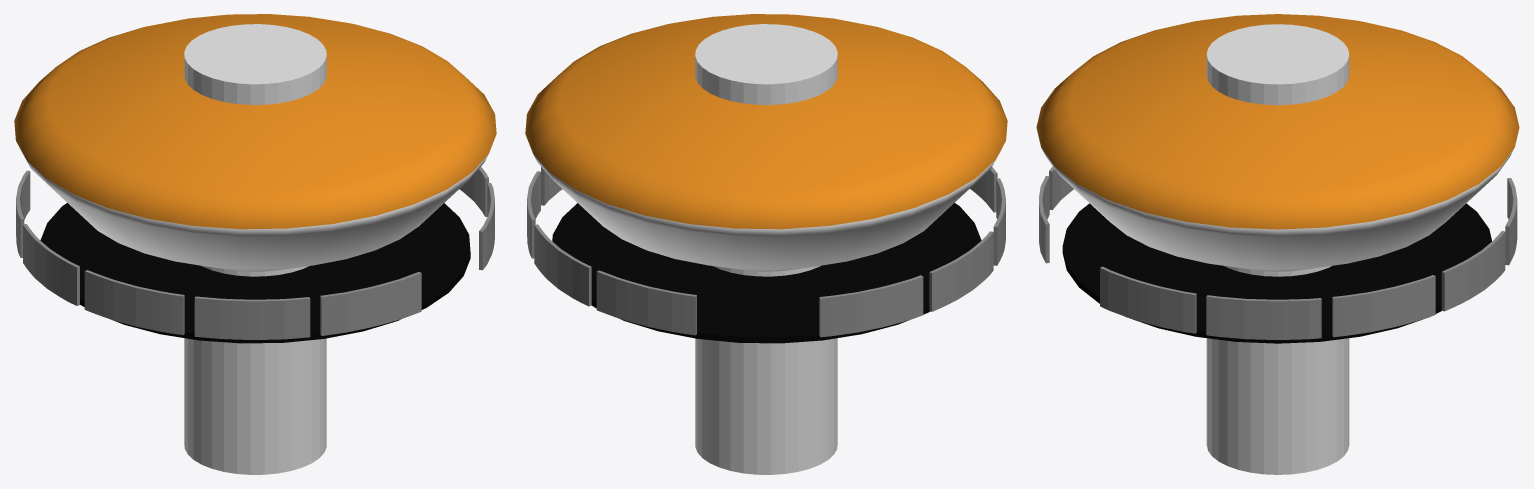
File: spacecraft.fbx
The picture shows the model from 3 angles, left to right: view 1: azimuth 30°, elevation 25°; view 2: azimuth 150°, elevation 25°; view 3: azimuth 270°, elevation 25°; orthographic projection.
Parts seen in each view (by area): view 1: Cylinder, Cylinder.002, Cylinder.001, Cube; view 2: Cylinder, Cylinder.002, Cylinder.001, Cube; view 3: Cylinder, Cylinder.002, Cylinder.001, Cube.
Boxes of the visible parts, x1=… form: Cylinder: x1=14, y1=14, x2=496, y2=271; Cylinder.002: x1=184, y1=24, x2=326, y2=474; Cylinder.001: x1=40, y1=203, x2=470, y2=343; Cube: x1=16, y1=167, x2=494, y2=339; Cylinder: x1=525, y1=14, x2=1007, y2=271; Cylinder.002: x1=695, y1=24, x2=837, y2=474; Cylinder.001: x1=552, y1=203, x2=981, y2=343; Cube: x1=527, y1=167, x2=1005, y2=337; Cylinder: x1=1036, y1=14, x2=1519, y2=271; Cylinder.002: x1=1206, y1=24, x2=1349, y2=474; Cylinder.001: x1=1062, y1=203, x2=1491, y2=343; Cube: x1=1039, y1=166, x2=1517, y2=339.
Size of the model in its own units: 224 by 200 by 224.
